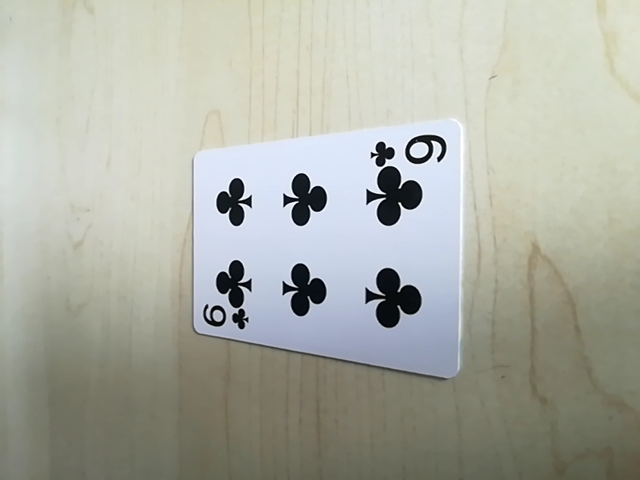mh 6: (369, 129, 451, 168), (196, 302, 249, 333)
